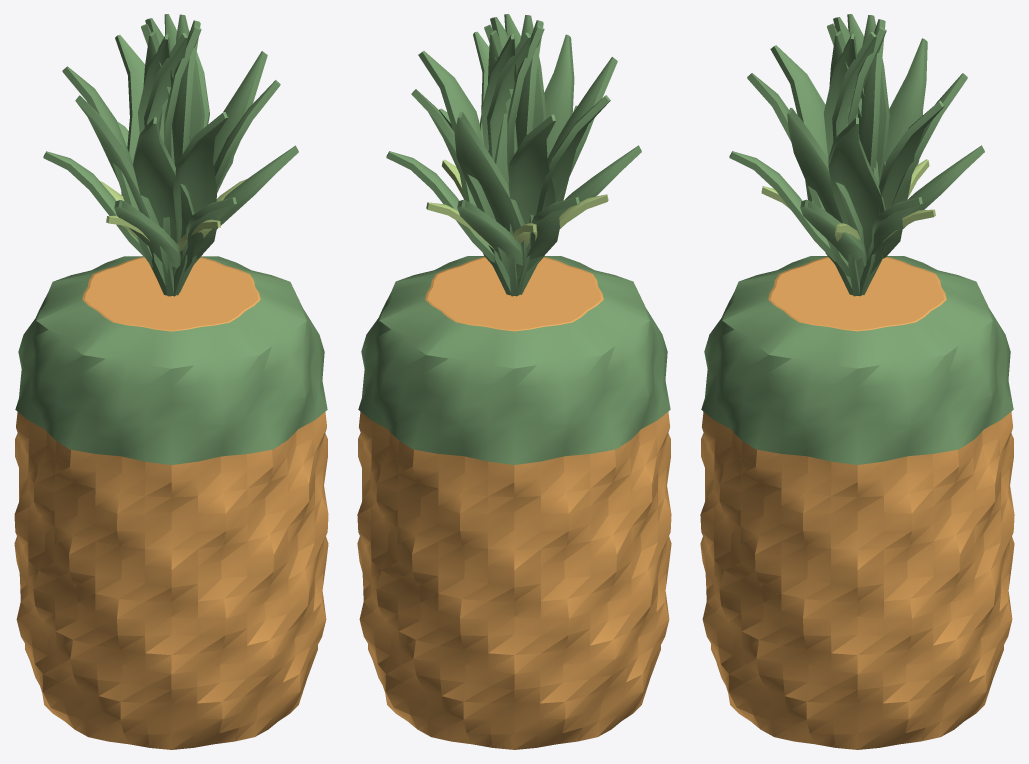
Rendered from fresh-produce-and-groceries-pineapple-d611b2a5__24334.glb.
3 renders of one model, left to right at view 1: azimuth 30°, elevation 25°; view 2: azimuth 150°, elevation 25°; view 3: azimuth 270°, elevation 25°, orthographic.
Parts seen in each view (by area): view 1: pineapple; view 2: pineapple; view 3: pineapple.
Boxes of the visible parts, left/top/right/bottom form: pineapple: left=14, top=14, right=328, bottom=749; pineapple: left=357, top=14, right=671, bottom=749; pineapple: left=700, top=14, right=1014, bottom=749.
Size of the model in its own units: 0.1171 by 0.279 by 0.1153.
